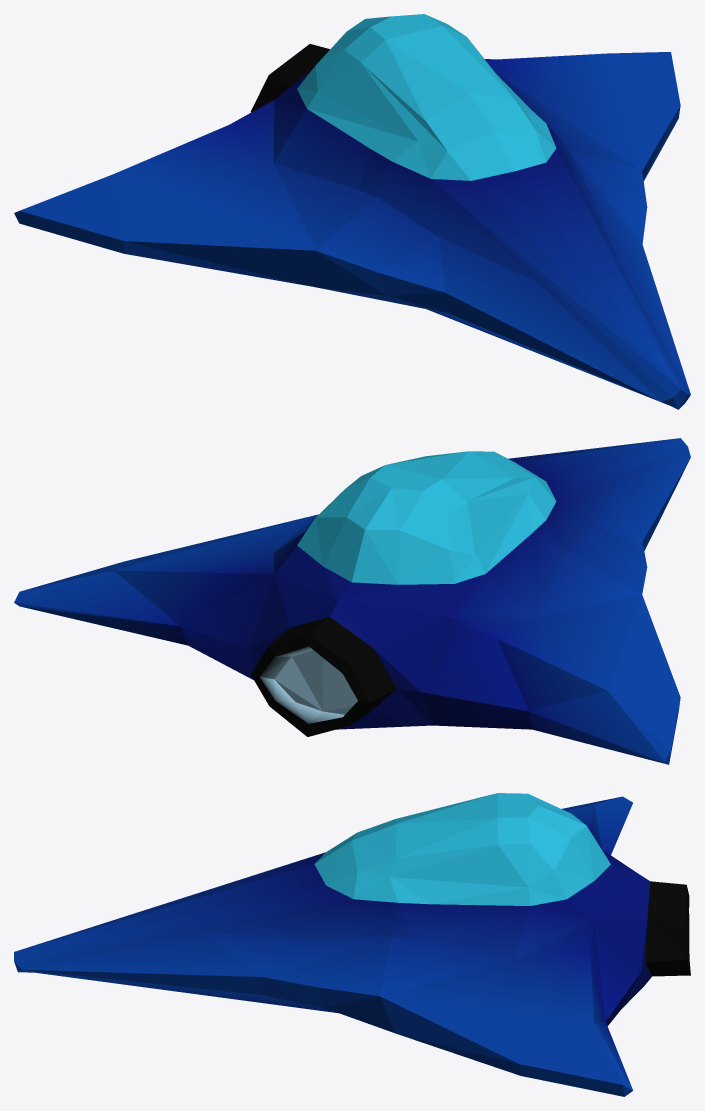
Rendered from imagineThisIsAHamster.obj.
The picture shows the model from 3 angles, top to bottom: view 1: azimuth 30°, elevation 25°; view 2: azimuth 150°, elevation 25°; view 3: azimuth 270°, elevation 25°; orthographic projection. The views are drawn at different scales.
Parts seen in each view (by area): view 1: Cube; view 2: Cube; view 3: Cube.
Boxes of the visible parts, box(x1,y1,x2,y2) form: Cube: box(14, 14, 690, 409); Cube: box(14, 438, 690, 764); Cube: box(14, 793, 690, 1096).
Bounding box in the file's own units: 7.53 × 2.19 × 7.46.
